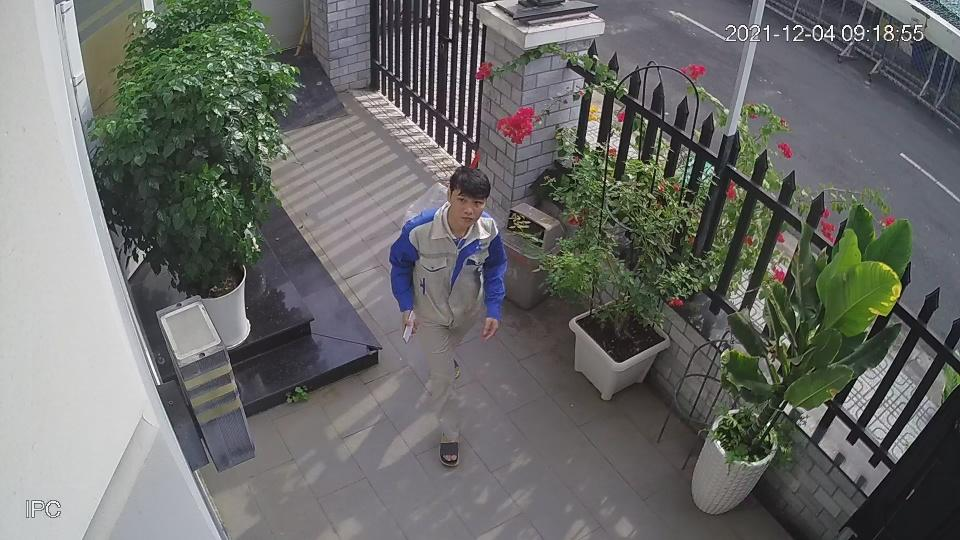person: (389, 164, 507, 466)
